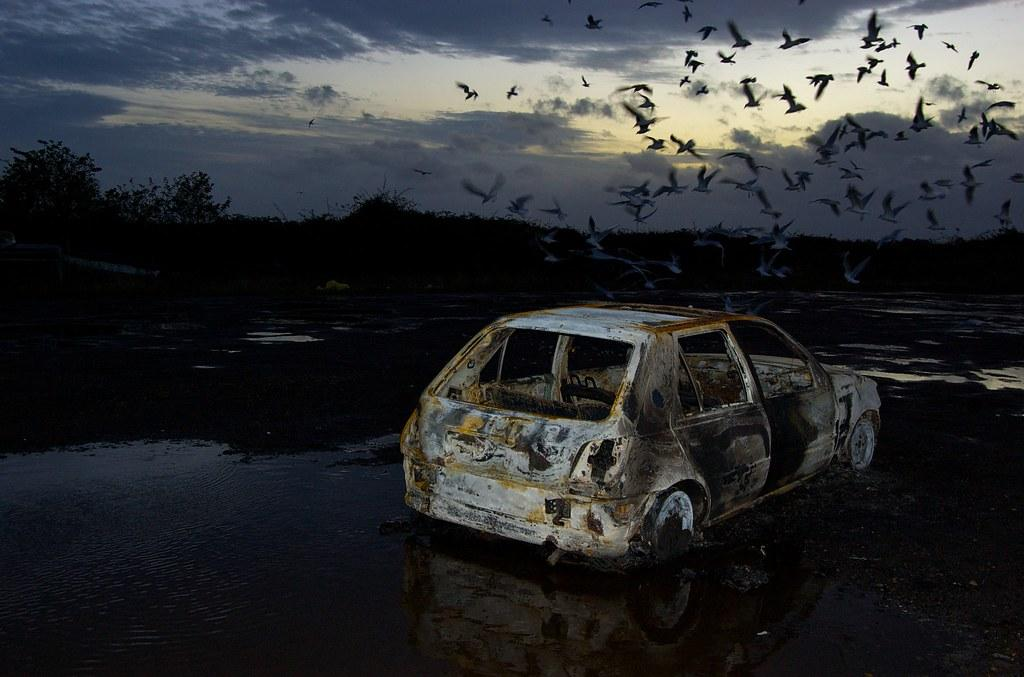car: (400, 301, 883, 573)
